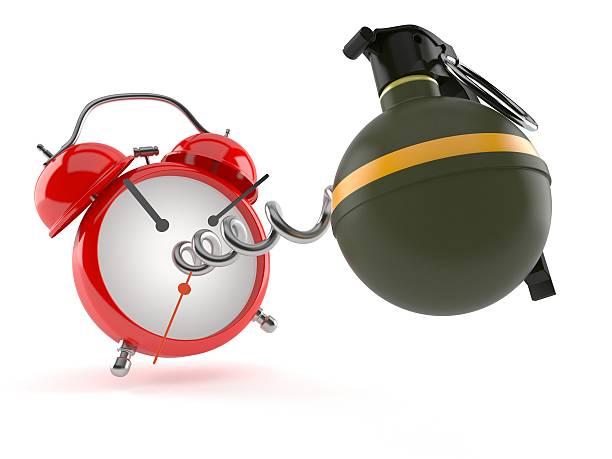e1: (326, 22, 558, 318)
